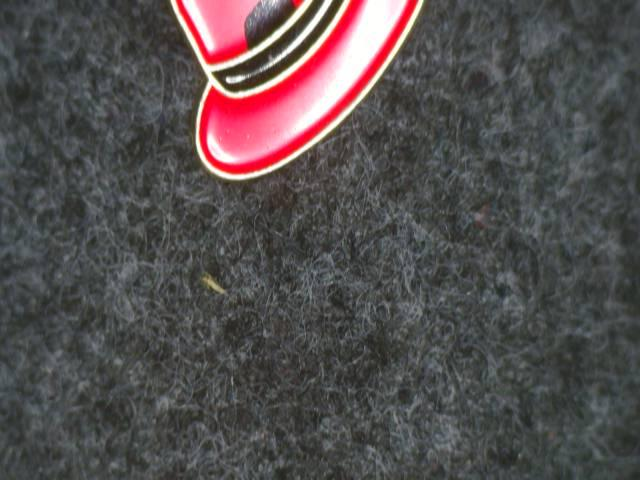Red-Hat: (154, 0, 444, 203)
Scratch: (234, 0, 307, 55)
